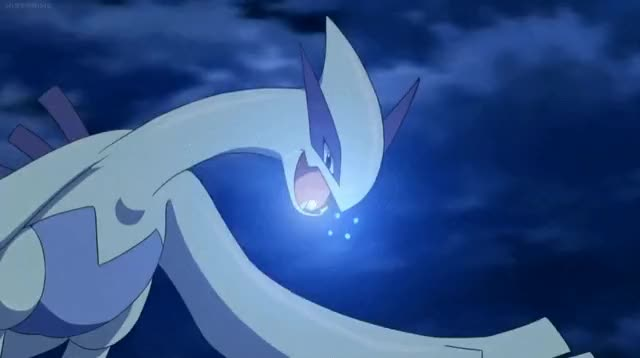lugia: (251, 15, 421, 218)
